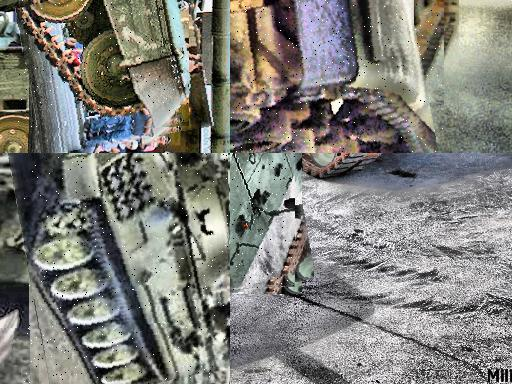tanks: (26, 154, 231, 384), (231, 1, 441, 154), (16, 1, 190, 129), (231, 154, 296, 291), (206, 1, 231, 154), (275, 154, 377, 176)
